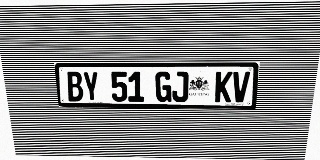1: (127, 72, 144, 102)
5: (111, 72, 128, 102)
B: (66, 72, 84, 101)
G: (155, 71, 172, 102)
J: (172, 71, 189, 102)
K: (215, 71, 233, 102)
V: (231, 71, 250, 102)
Y: (82, 72, 100, 102)
